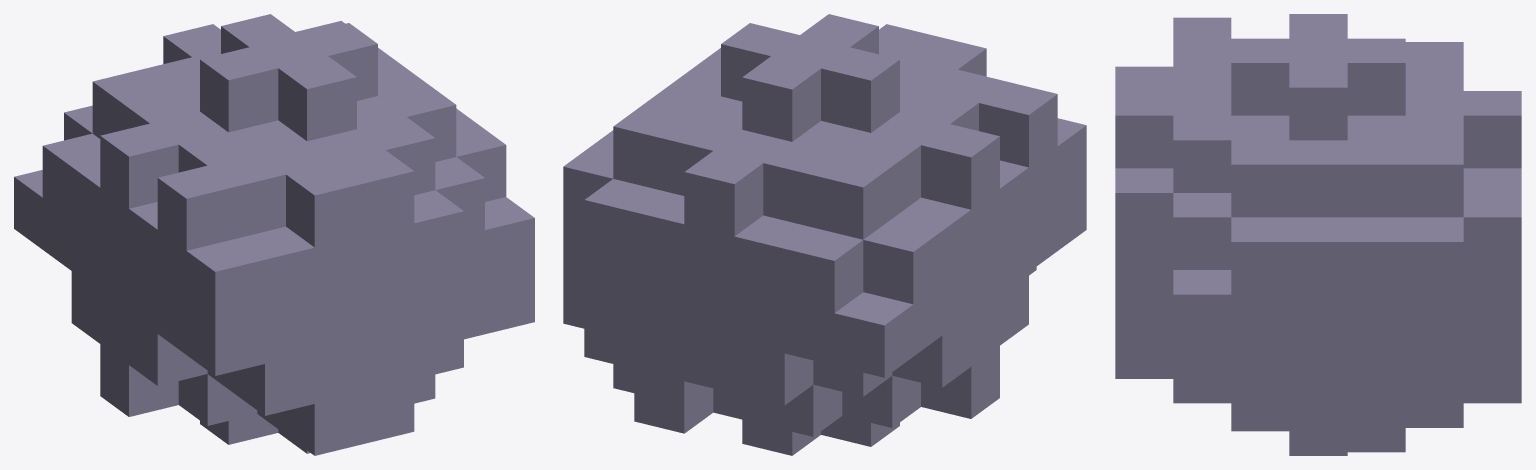
The model's file is stone.fbx.
3 renders of one model, left to right at view 1: azimuth 30°, elevation 25°; view 2: azimuth 150°, elevation 25°; view 3: azimuth 270°, elevation 25°, orthographic.
Visible parts, largest first — view 1: Sphere; view 2: Sphere; view 3: Sphere.
Boxes of the visible parts, x1,y1,x2,y2 form: Sphere: (14,14,534,455); Sphere: (563,14,1086,455); Sphere: (1115,14,1521,455).
Size of the model in its own units: 1010 by 1010 by 1010.
